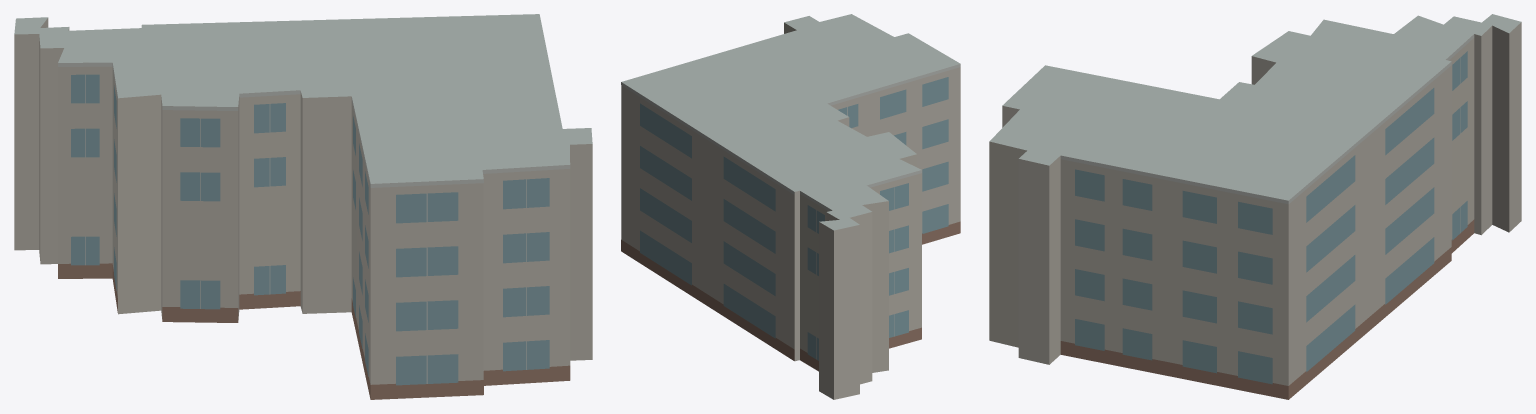
The model's file is survey-upis-32773751.glb.
The picture shows the model from 3 angles, left to right: view 1: azimuth 30°, elevation 25°; view 2: azimuth 150°, elevation 25°; view 3: azimuth 270°, elevation 25°; orthographic projection. The views are drawn at different scales.
Visible parts, largest first — view 1: survey-upis-32773751.tmp; view 2: survey-upis-32773751.tmp; view 3: survey-upis-32773751.tmp.
Part boxes in pixels (left/top/right/bottom): survey-upis-32773751.tmp: left=14, top=14, right=592, bottom=399; survey-upis-32773751.tmp: left=621, top=14, right=960, bottom=399; survey-upis-32773751.tmp: left=989, top=14, right=1521, bottom=399.
Bounding box in the file's own units: 26.34 × 13.1 × 31.72.
